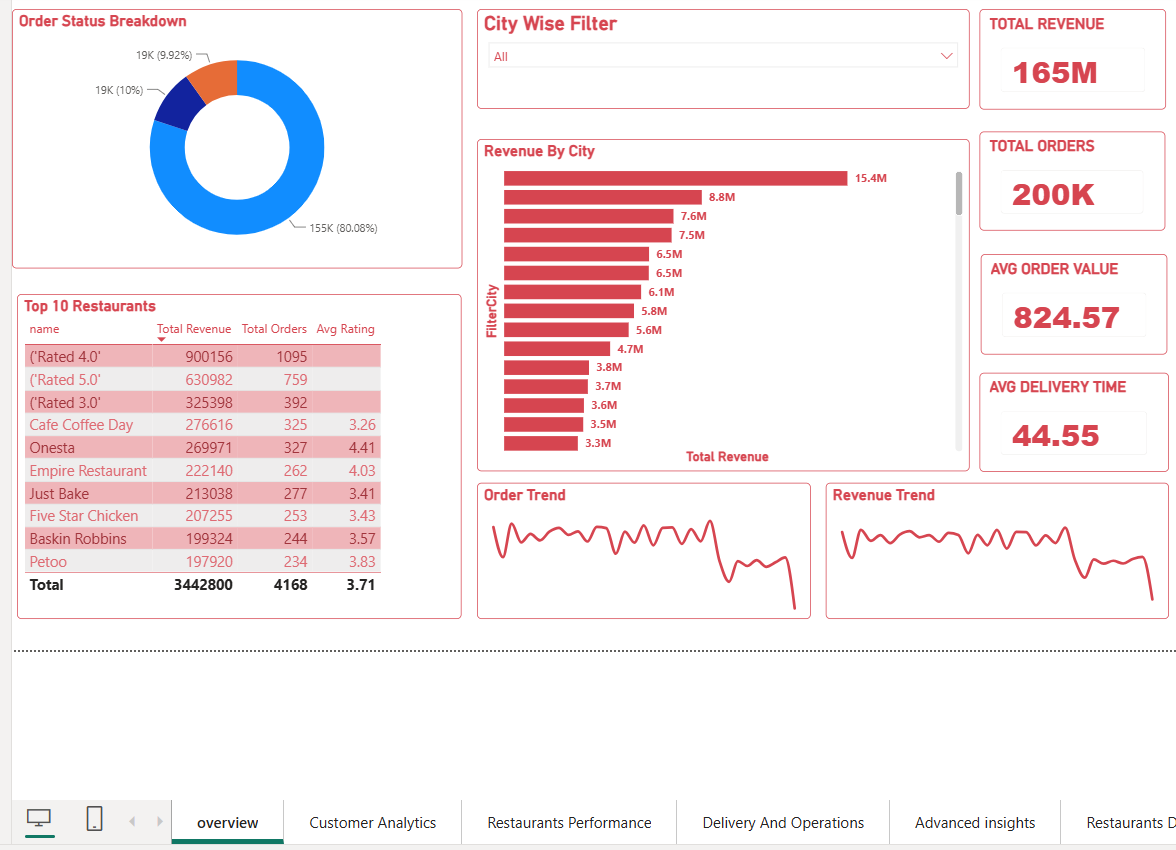

Layout of this report page (visuals, bound fields, positions):
{"tool":"powerbi","page":{"name":"overview","canvas":[1280,720],"ordinal":0},"visuals":[{"type":"cardVisual","title":"TOTAL REVENUE","fields":{"Data":["Orders.Total Revenue"]},"box":[1062.7,16.7,205,110.2],"z":0},{"type":"cardVisual","title":"TOTAL ORDERS","fields":{"Data":["Orders.Total Orders"]},"box":[1062.7,150.6,203.6,108.8],"z":1000},{"type":"cardVisual","title":"AVG ORDER VALUE","fields":{"Data":["Orders.Avg Order Value"]},"box":[1064.1,285.9,205,110.2],"z":2000},{"type":"cardVisual","title":"AVG DELIVERY TIME","fields":{"Data":["Orders.Avg Delivery Time"]},"box":[1062.7,415.6,207.8,108.8],"z":3000},{"type":"lineChart","title":"Revenue Trend","fields":{"Y":["Orders.Total Revenue"],"Category":["DateTable.Date.Variation.Date Hierarchy.Year","DateTable.Date.Variation.Date Hierarchy.Month"]},"box":[894,536.9,376.6,149.2],"z":4000},{"type":"lineChart","title":"Order Trend","fields":{"Category":["DateTable.Date.Variation.Date Hierarchy.Year","DateTable.Date.Variation.Date Hierarchy.Month"],"Y":["Orders.Total Orders"]},"box":[510.4,536.9,366.8,149.2],"z":5000},{"type":"barChart","title":"Revenue By City","fields":{"Y":["Orders.Total Revenue"],"Category":["Customers.FilterCity"]},"box":[509.8,159.5,541.2,364.6],"z":6000},{"type":"slicer","title":"City Wise Filter","fields":{"Values":["Customers.FilterCity"]},"box":[509.8,17.1,541.2,109.7],"z":7000},{"type":"tableEx","title":"Top 10 Restaurants","fields":{"Values":["Restaurants.name","Orders.Total Revenue","Orders.Total Orders","Orders.Avg Rating"]},"box":[5.6,329.1,488.1,357],"z":8000},{"type":"donutChart","title":"Order Status Breakdown","fields":{"Category":["Orders.OrderStatus"],"Y":["Orders.Total Orders"]},"box":[0,17.1,494.2,284.8],"z":9000}]}

Visuals, with their boxes on the page's 1280x720 design canvas (x1, y1, x2, y2). These are canvas units, not pixel positions in the 1176x850 screenshot, which may show the page scaled, cropped or inside an application window:
"TOTAL REVENUE" cardVisual: <box>1063,17,1268,127</box>
"TOTAL ORDERS" cardVisual: <box>1063,151,1266,259</box>
"AVG ORDER VALUE" cardVisual: <box>1064,286,1269,396</box>
"AVG DELIVERY TIME" cardVisual: <box>1063,416,1270,524</box>
"Revenue Trend" lineChart: <box>894,537,1271,686</box>
"Order Trend" lineChart: <box>510,537,877,686</box>
"Revenue By City" barChart: <box>510,160,1051,524</box>
"City Wise Filter" slicer: <box>510,17,1051,127</box>
"Top 10 Restaurants" tableEx: <box>6,329,494,686</box>
"Order Status Breakdown" donutChart: <box>0,17,494,302</box>
